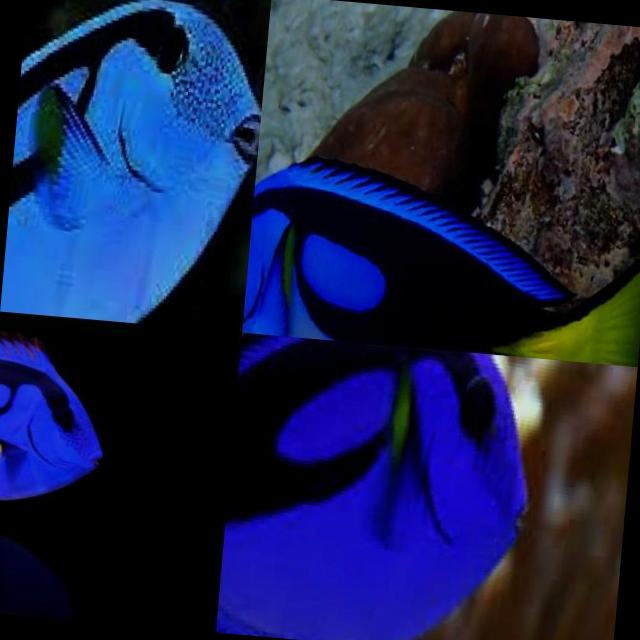BlueTang: (215, 332, 574, 640), (241, 113, 640, 367), (0, 0, 271, 332), (0, 311, 186, 559)
